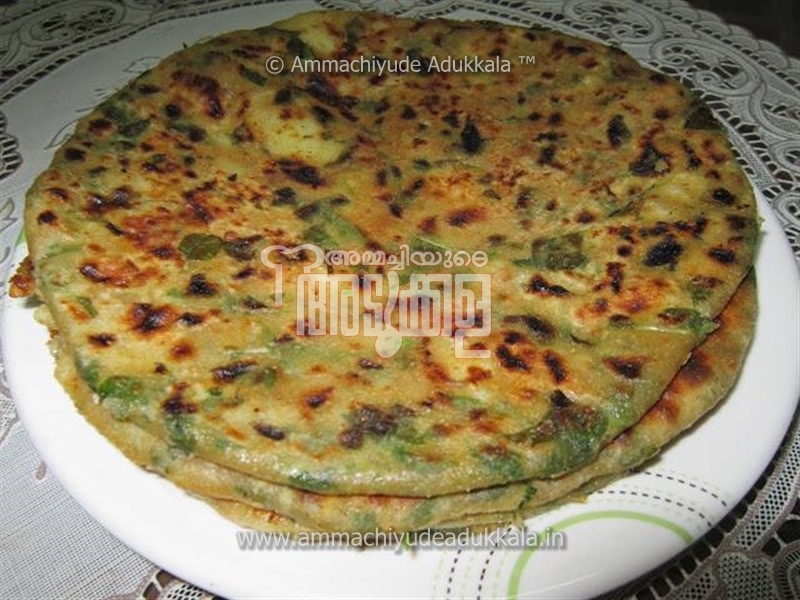aloo_paratha: (25, 12, 766, 539)
